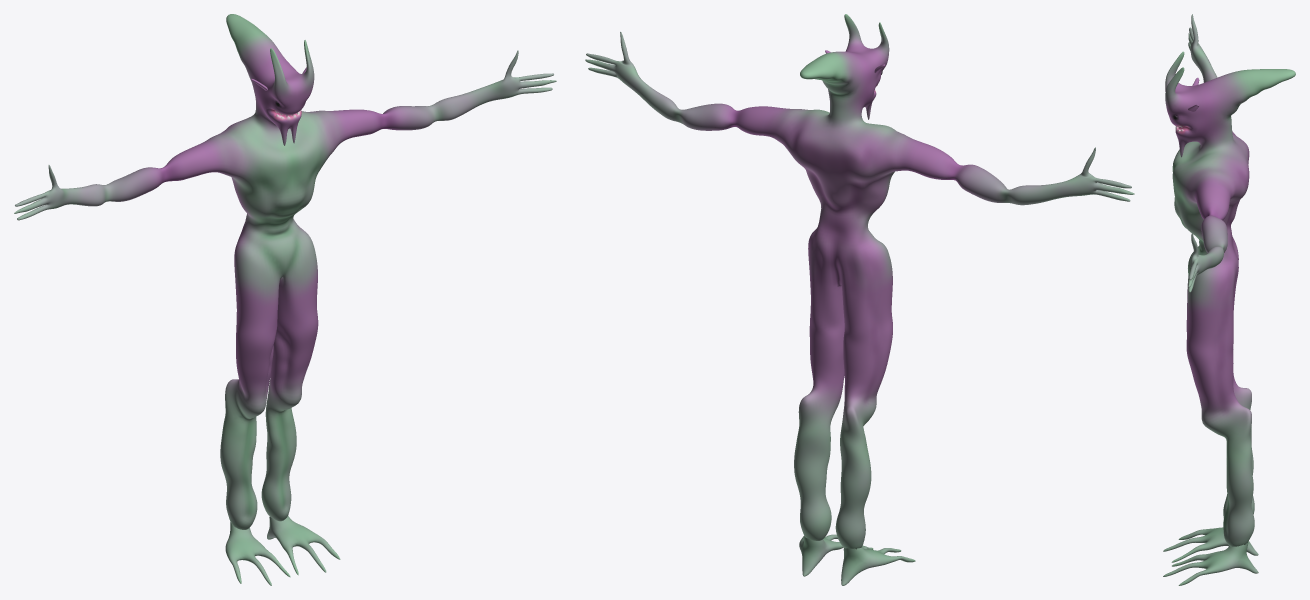
The model's file is AlienTextured.fbx.
3 views of the same model, side by side, from view 1: azimuth 30°, elevation 25°; view 2: azimuth 150°, elevation 25°; view 3: azimuth 270°, elevation 25° (orthographic). The views are drawn at different scales.
Parts seen in each view (by area): view 1: Alien; view 2: Alien; view 3: Alien.
Part boxes in pixels (x1,y1,x2,y2): Alien: (14,14,556,585); Alien: (585,14,1134,585); Alien: (1163,14,1295,585).
Bounding box in the file's own units: 231 × 215 × 51.27.
